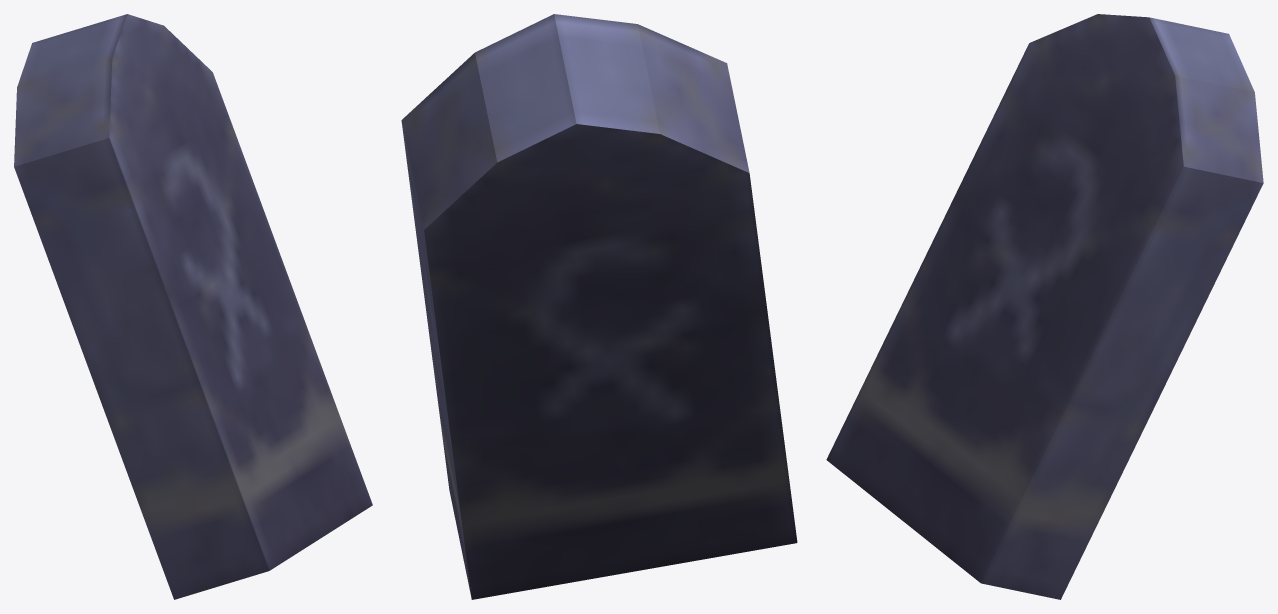
Rendered from Area12_37.fbx.
The picture shows the model from 3 angles, left to right: view 1: azimuth 30°, elevation 25°; view 2: azimuth 150°, elevation 25°; view 3: azimuth 270°, elevation 25°; orthographic projection. The views are drawn at different scales.
Parts seen in each view (by area): view 1: Area12_37; view 2: Area12_37; view 3: Area12_37.
Boxes of the visible parts, x1,y1,x2,y2 form: Area12_37: (14, 14, 372, 599); Area12_37: (401, 14, 797, 599); Area12_37: (826, 14, 1263, 599).
Size of the model in its own units: 261 by 433 by 325.
